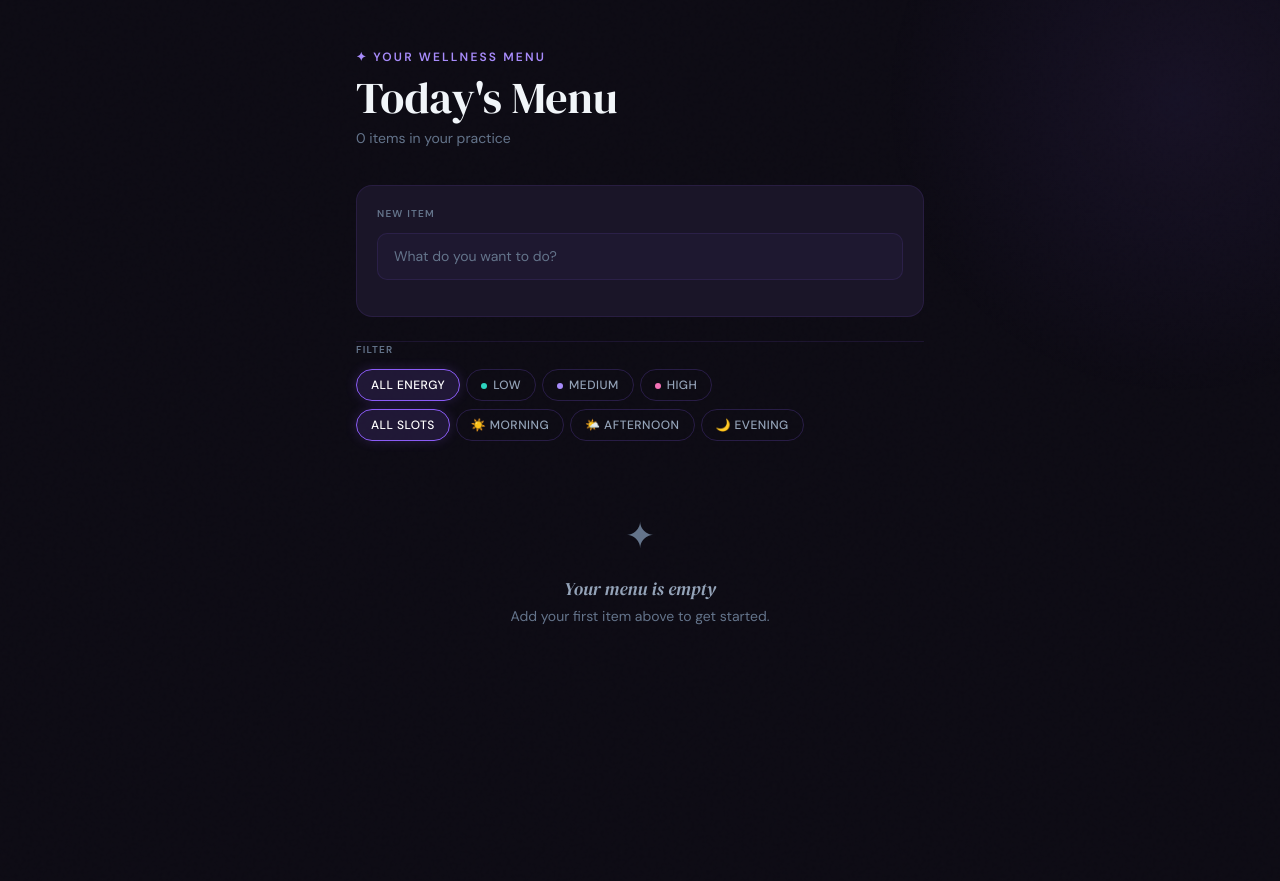
App — create flow › adds a new item to the list after submitting the form
This screenshot has width=1280, height=881.
In the field with placeholder "What do you want to do?": (640, 257) [377,233,903,280], type "Yoga"
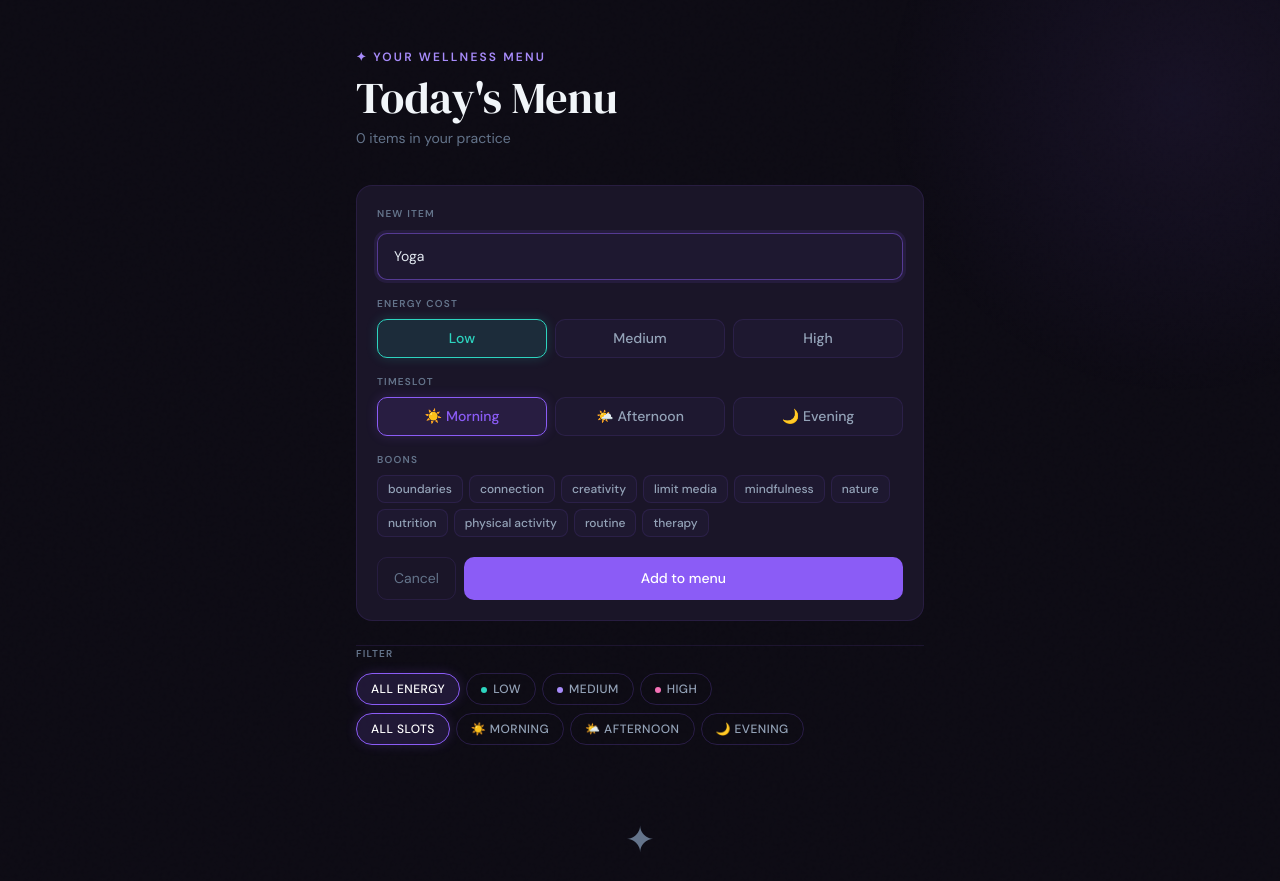
Click the button "Add to menu": click(683, 579) [464,557,903,600]
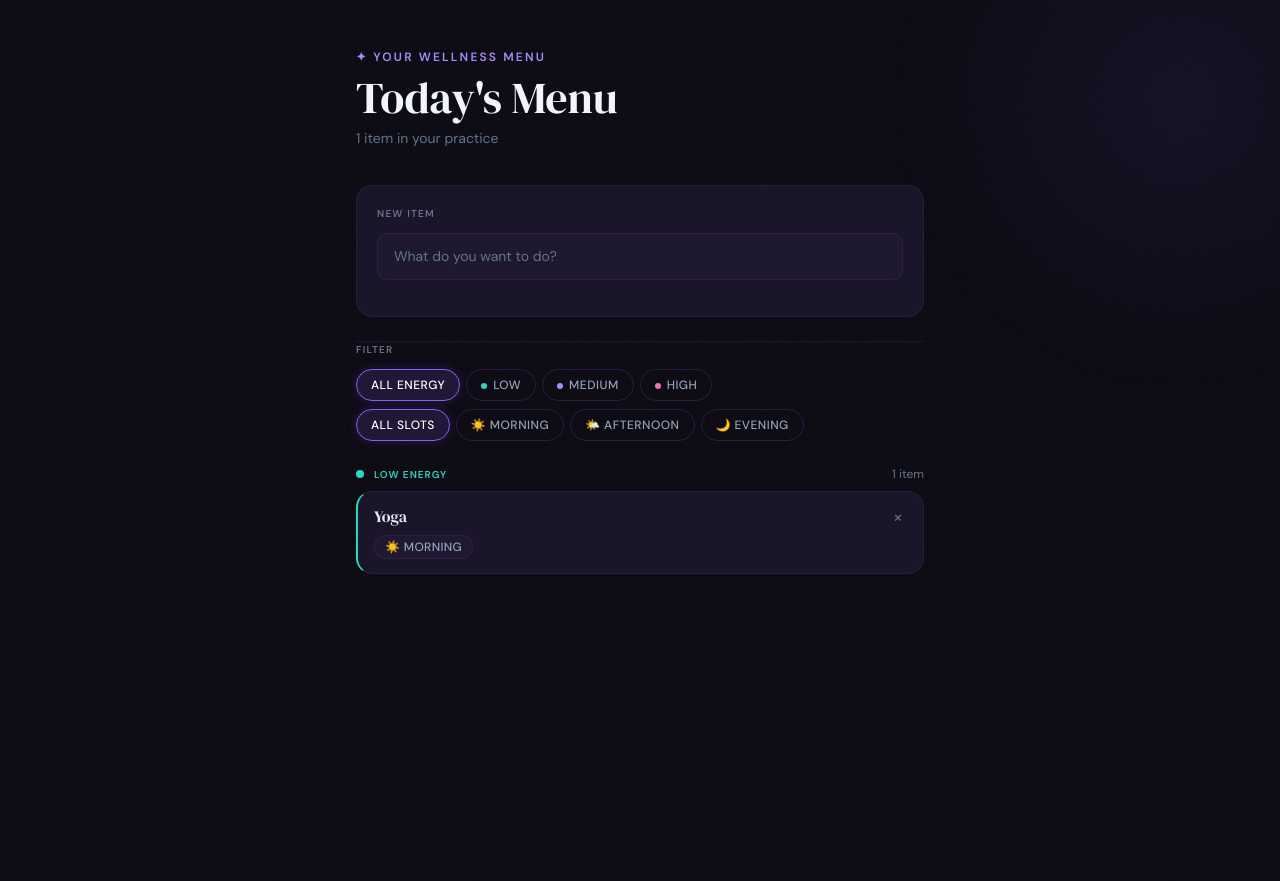
Expected: the text "Yoga" is shown, [374,505,407,527]
